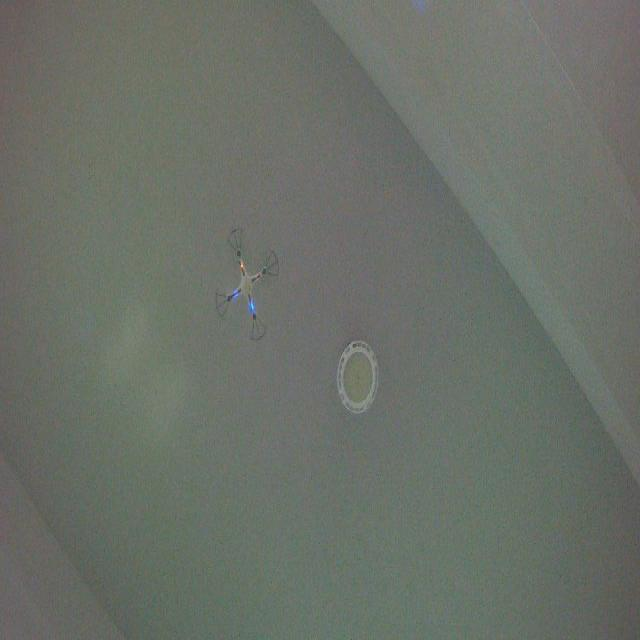drone: (212, 224, 280, 342)
